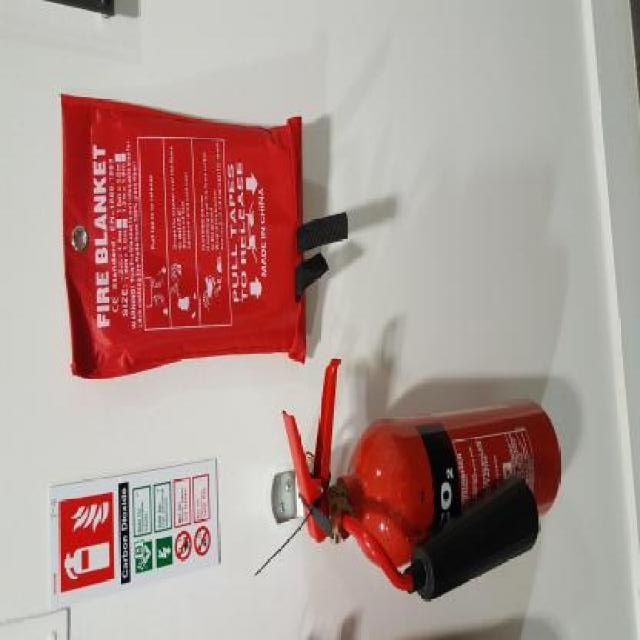fire extinguisher: (283, 358, 562, 600)
